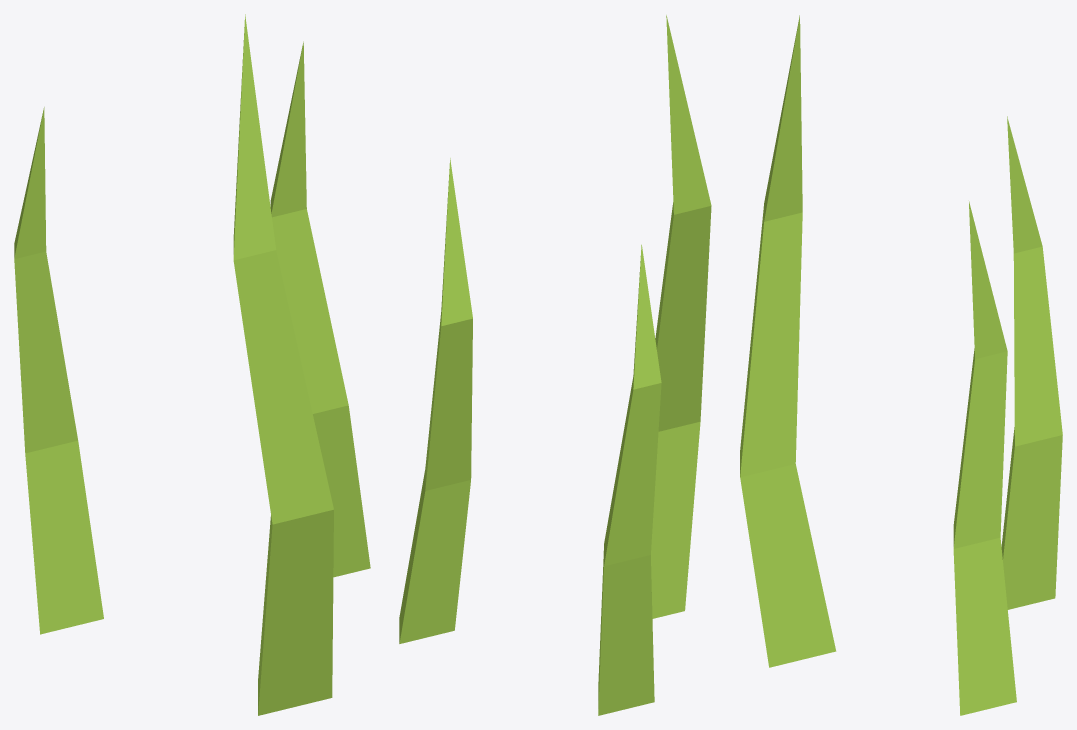
Rendered from grass.gltf.
3 renders of one model, left to right at view 1: azimuth 30°, elevation 25°; view 2: azimuth 150°, elevation 25°; view 3: azimuth 270°, elevation 25°, orthographic. The views are drawn at different scales.
Parts seen in each view (by area): view 1: Grass; view 2: Grass; view 3: Grass.
Part boxes in pixels (bbox=[...]): Grass: bbox=[14, 14, 370, 715]; Grass: bbox=[399, 15, 711, 715]; Grass: bbox=[740, 15, 1062, 715].
Bounding box in the file's own units: 0.1105 × 0.2225 × 0.1045.
